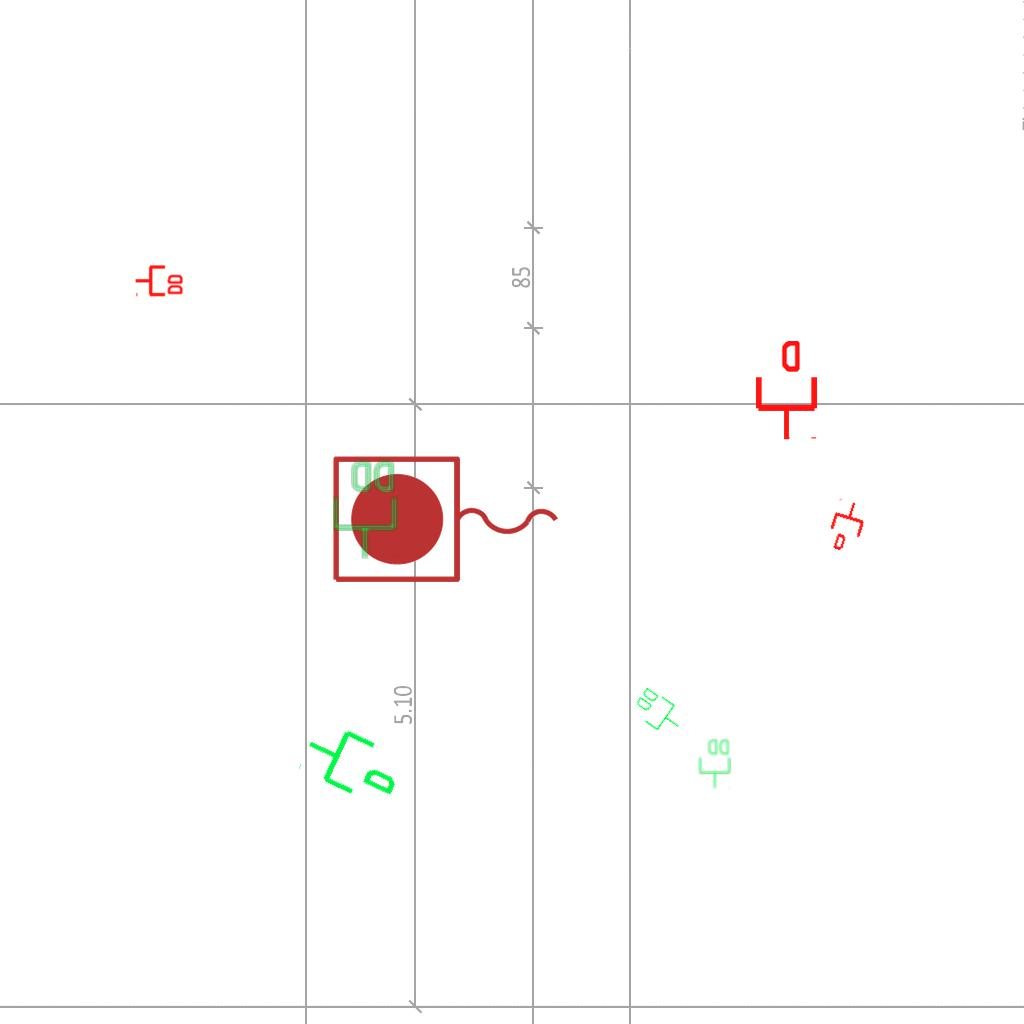Datenanschluss_einfach: (293, 709, 414, 815), (752, 341, 821, 441), (823, 497, 871, 555)
Datenanschluss_zweifach: (331, 458, 400, 561), (627, 683, 690, 741), (698, 738, 732, 789), (134, 263, 185, 297)
Zugtaster: (325, 449, 569, 593)
